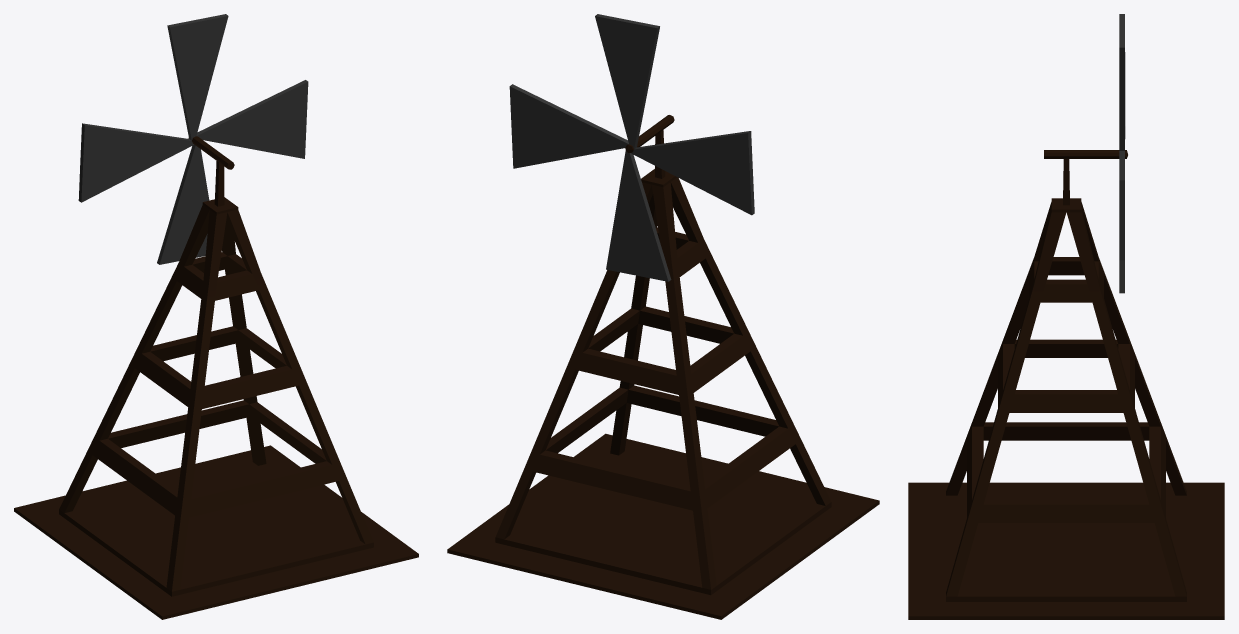
Rendered from molino.FBX.
3 renders of one model, left to right at view 1: azimuth 30°, elevation 25°; view 2: azimuth 150°, elevation 25°; view 3: azimuth 270°, elevation 25°, orthographic. The views are drawn at different scales.
Parts seen in each view (by area): view 1: granja:polySurface1, granja:polySurface2; view 2: granja:polySurface1, granja:polySurface2; view 3: granja:polySurface1, granja:polySurface2.
Boxes of the visible parts, x1,y1,x2,y2 form: granja:polySurface1: (14,136,418,619); granja:polySurface2: (78,14,308,264); granja:polySurface1: (447,115,879,619); granja:polySurface2: (509,14,754,281); granja:polySurface1: (908,150,1224,619); granja:polySurface2: (1119,14,1127,293).
Bounding box in the file's own units: 5.14 × 9.46 × 5.14.
